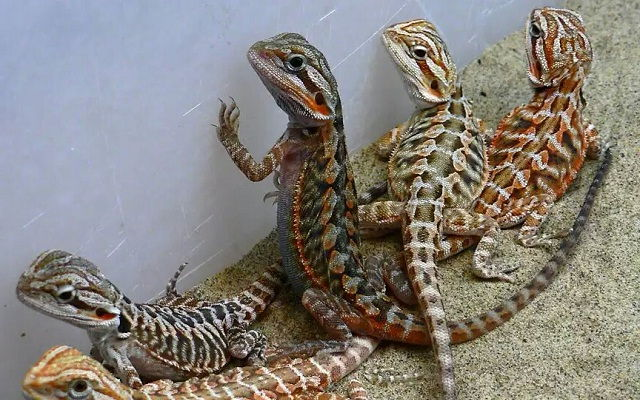bearded: (358, 19, 490, 400), (13, 239, 291, 374)
